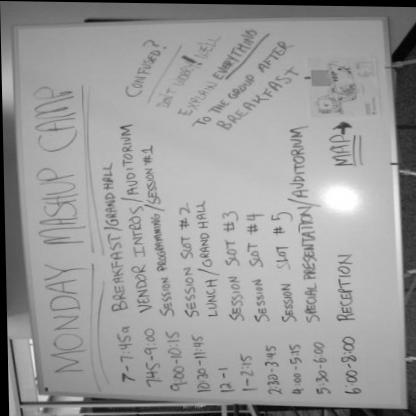Handwritten text: (28, 79, 88, 382), (176, 27, 299, 140), (164, 18, 265, 129), (140, 14, 234, 120), (204, 51, 305, 142), (114, 119, 157, 318), (86, 159, 130, 317), (141, 163, 176, 321), (192, 191, 221, 328), (165, 229, 202, 325), (294, 201, 322, 327), (214, 233, 249, 331), (263, 235, 299, 327), (115, 41, 163, 107), (279, 114, 313, 198), (330, 245, 363, 323), (242, 236, 270, 327), (321, 126, 354, 175)
Whiteboard: (9, 3, 410, 416)
